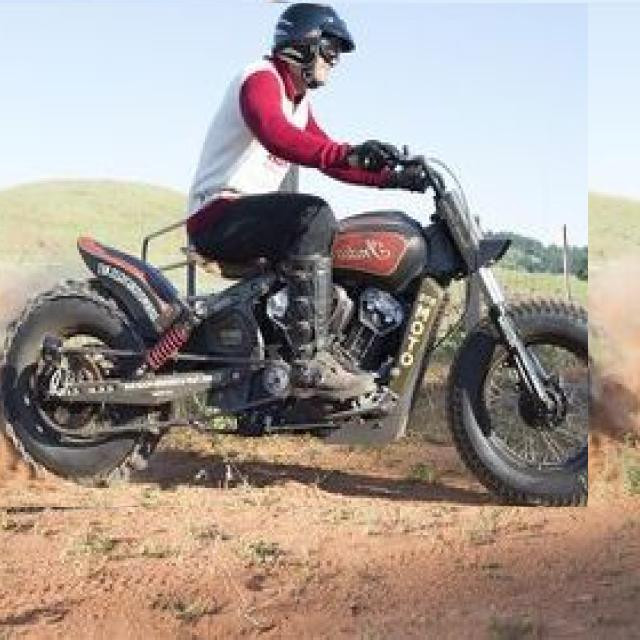motorcycle: (0, 4, 588, 507)
